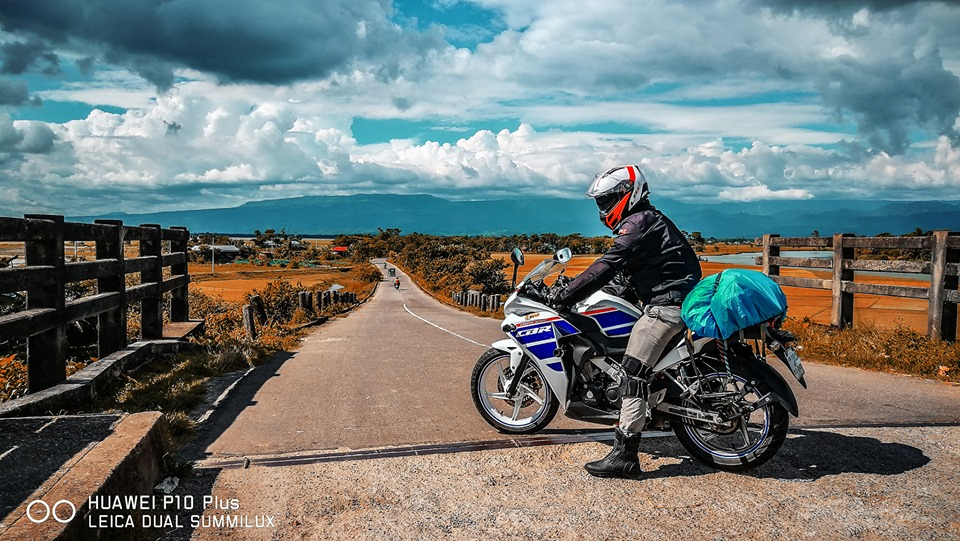bike: (464, 240, 805, 469)
